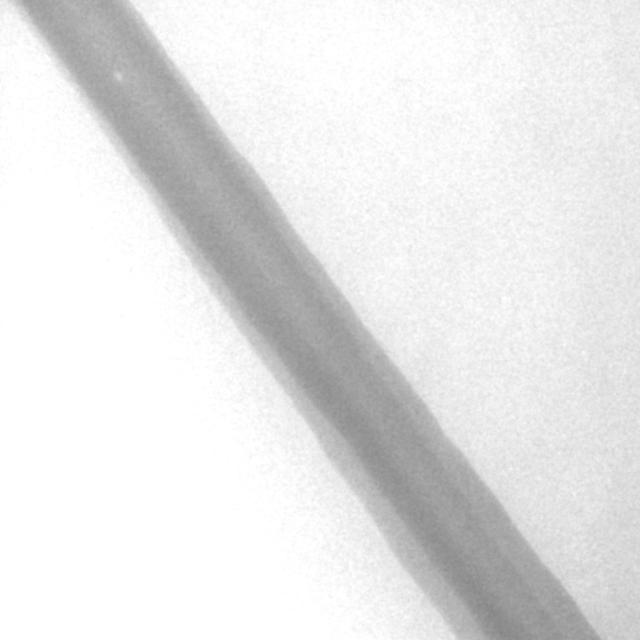air hole: (111, 69, 125, 85)
